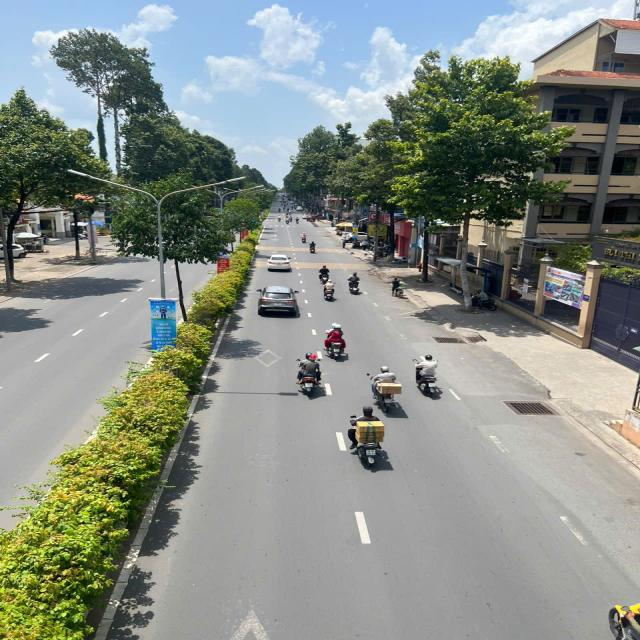Bicycle: (393, 277, 405, 297)
car: (259, 285, 298, 318), (269, 254, 290, 271), (303, 214, 316, 222), (297, 206, 303, 210)
motobyte: (347, 408, 387, 471), (367, 368, 402, 412), (295, 350, 323, 398), (414, 353, 442, 399), (320, 324, 348, 360), (348, 273, 358, 295), (324, 281, 334, 301), (320, 266, 328, 281), (308, 242, 316, 254), (300, 232, 307, 242), (295, 216, 299, 224), (286, 218, 289, 225), (290, 215, 292, 222), (279, 216, 281, 221), (286, 214, 288, 218)
